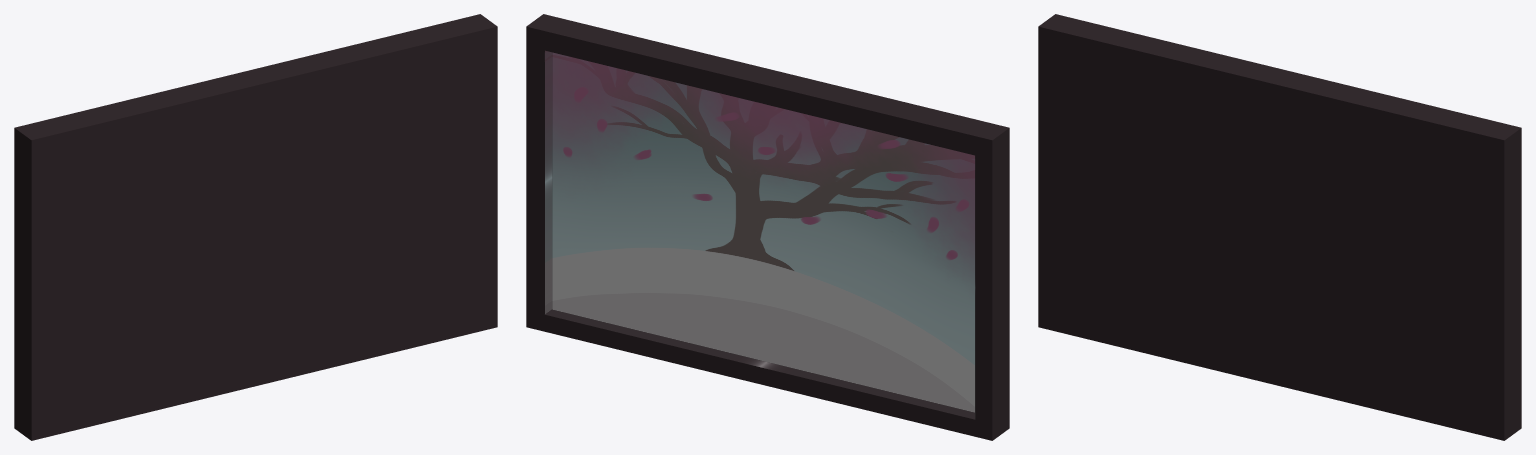
File: painting3.fbx
The picture shows the model from 3 angles, left to right: view 1: azimuth 30°, elevation 25°; view 2: azimuth 150°, elevation 25°; view 3: azimuth 330°, elevation 25°; orthographic projection.
Visible parts, largest first — view 1: pCube161; view 2: pCube161; view 3: pCube161.
Part boxes in pixels (x1,y1,x2,y2): pCube161: (14,14,497,440); pCube161: (526,14,1009,440); pCube161: (1038,14,1521,440).
Bounding box in the file's own units: 211 × 130 × 13.48.
